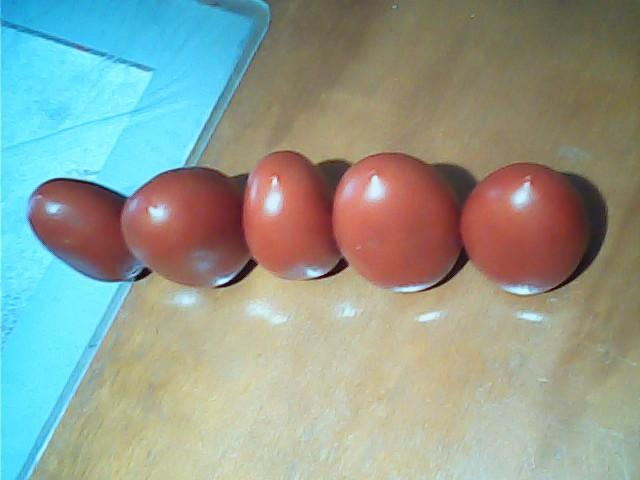maduro: (327, 157, 463, 292), (119, 165, 247, 289), (462, 164, 581, 294), (245, 149, 346, 282), (25, 175, 145, 282)
